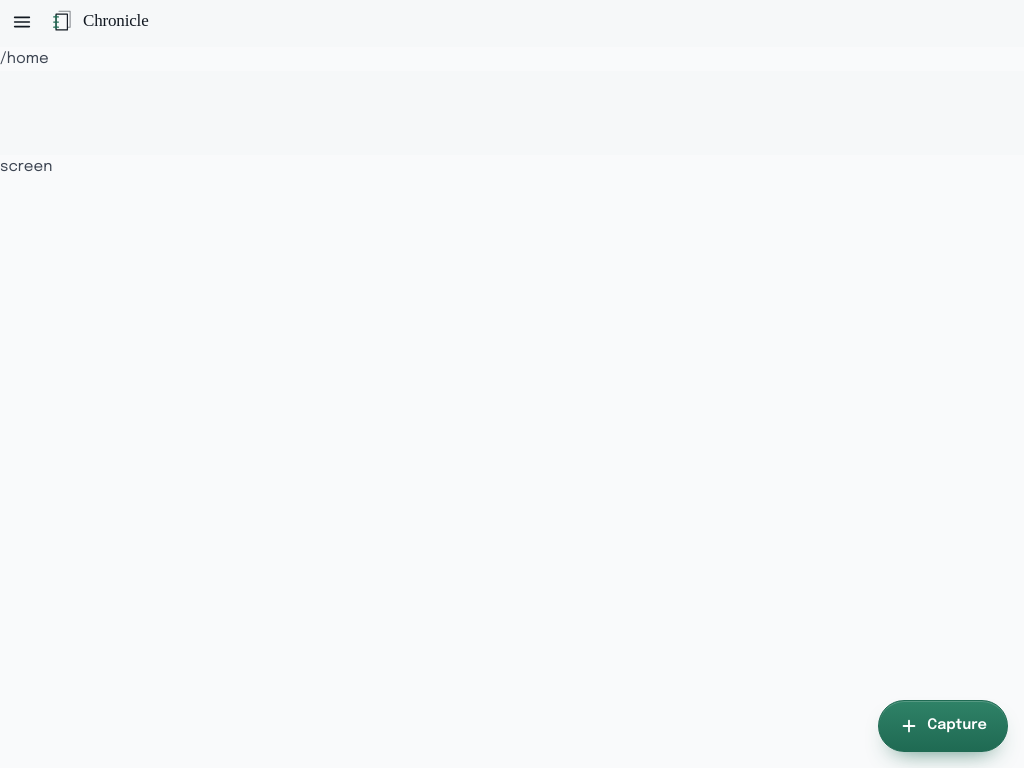
Scenario: mobile drawer › shows the signed-in identity and signs out
Later steps or results of the test are not shown.
Click the button with test id "nav-menu-button": (22, 22) [0,0,44,44]
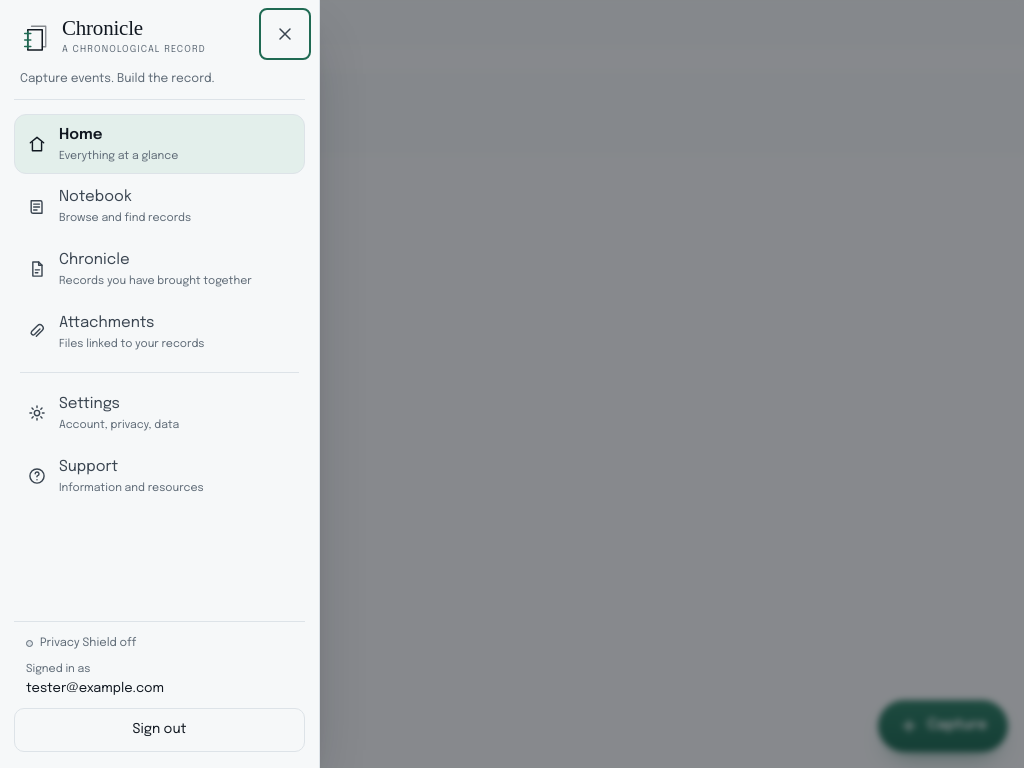
Result: the dialog with test id "nav-drawer" is shown at [0,0,320,767]
Result: the element with test id "drawer-account" shows "tester@example.com" at [26,682,164,695]
